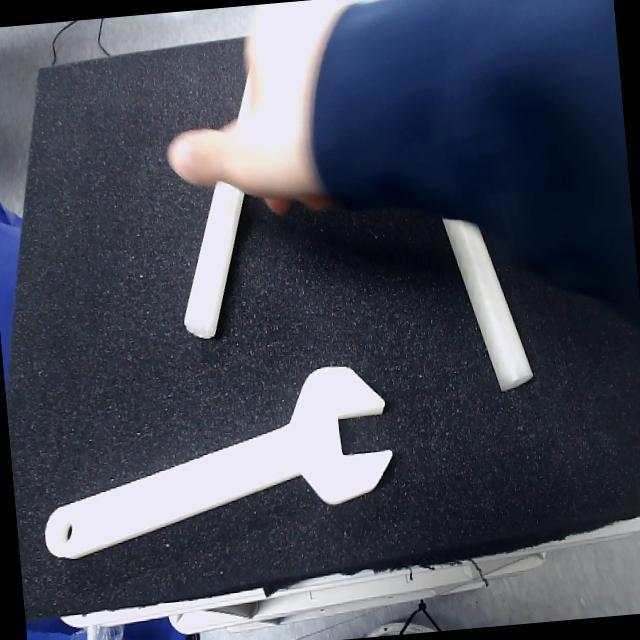Spanner: (45, 368, 395, 560)
